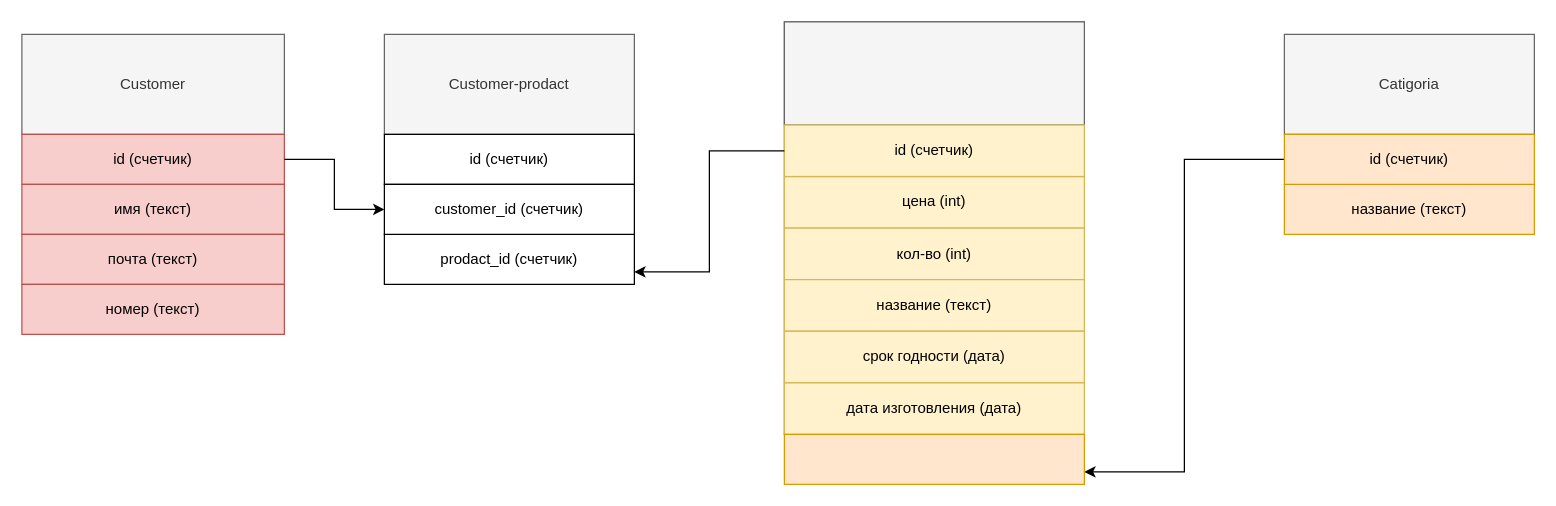
Some shapes in this 1556 by 506 pixel diagram are drawn without their labels. Here are the shapes that lost their labels. From the top down, the box of each, then its label:
(783, 21, 1084, 125): prodact
(783, 433, 1084, 484): categori_id (счетчик)
